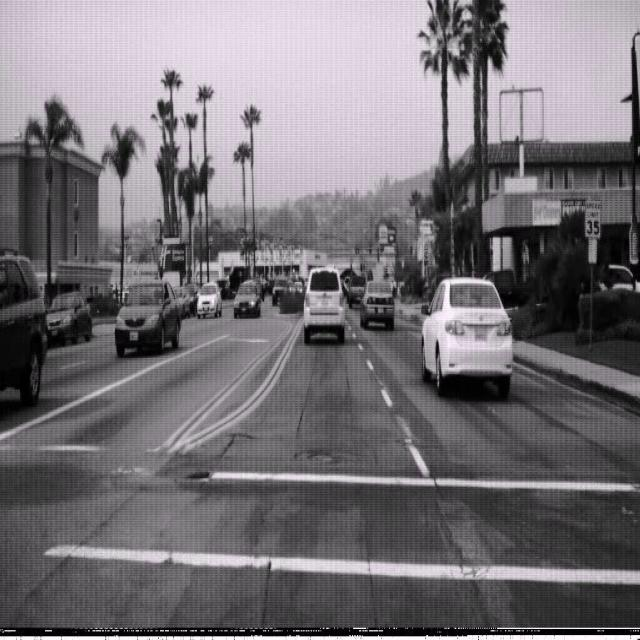speedLimit35: (584, 197, 602, 239)
